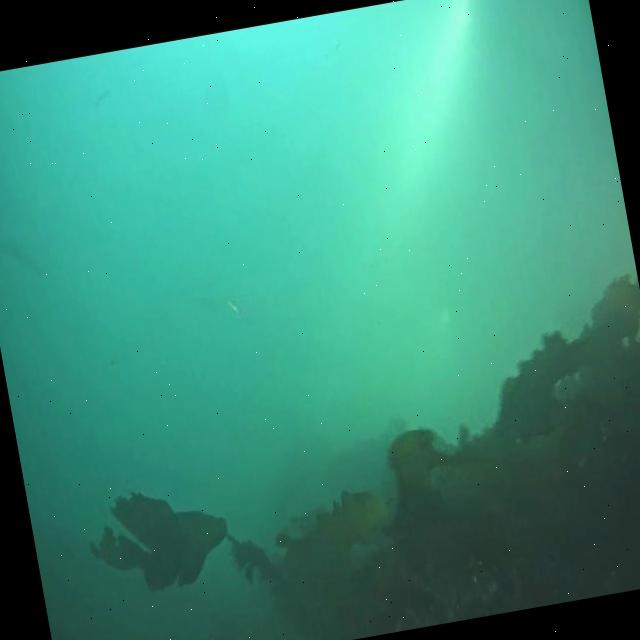fish: (226, 294, 246, 324)
